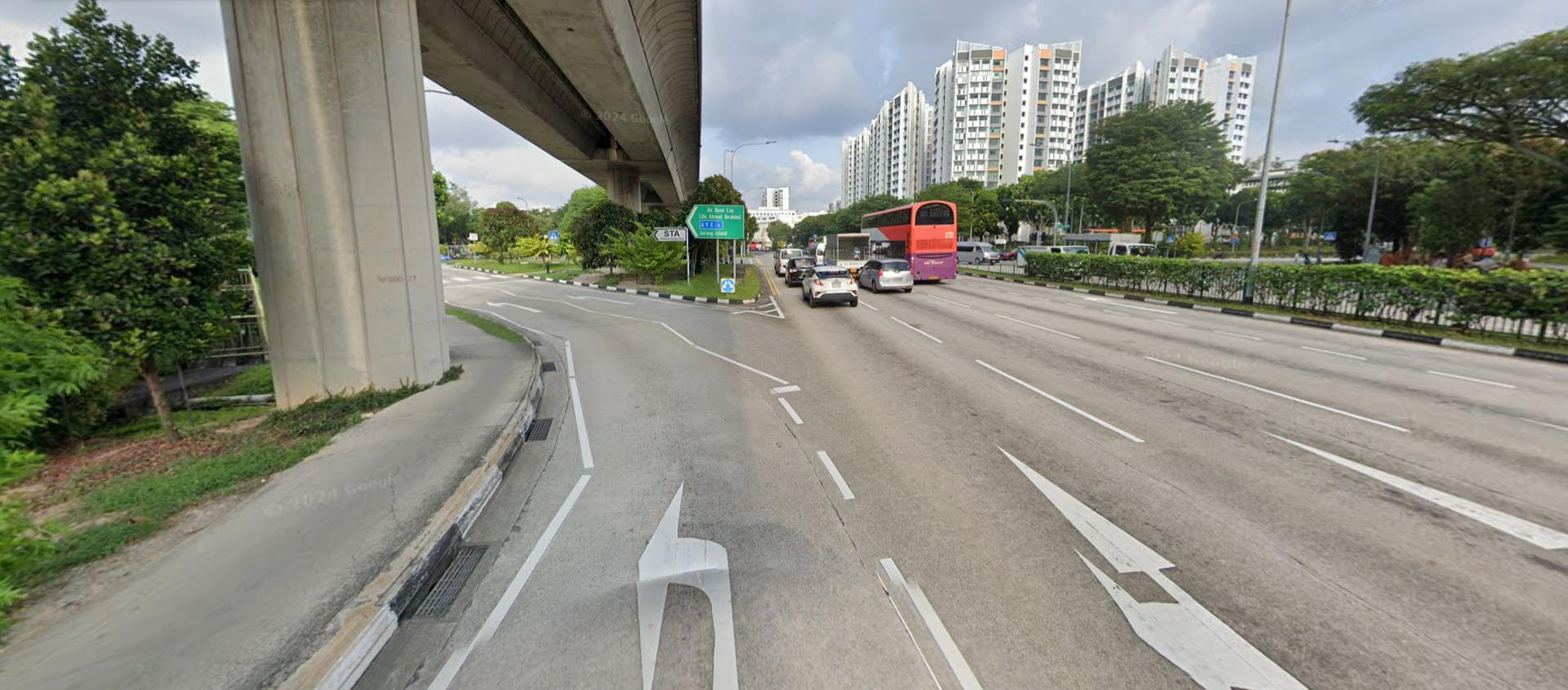normal: (526, 417, 555, 442)
